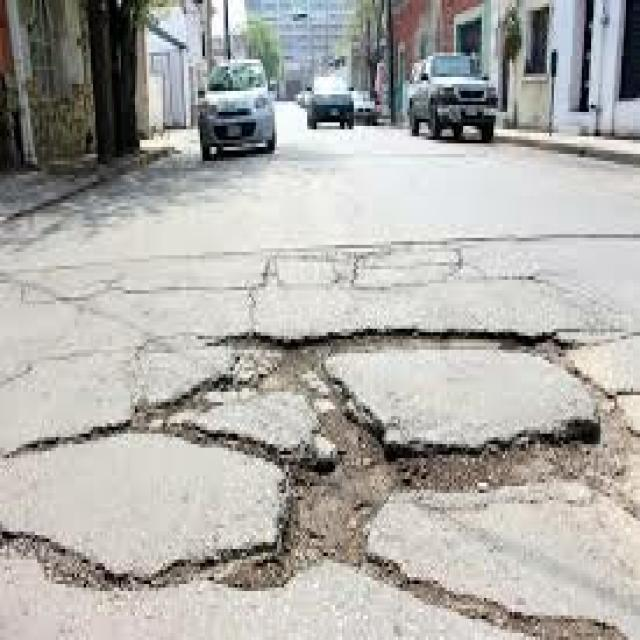Pothole: (37, 304, 640, 630)
